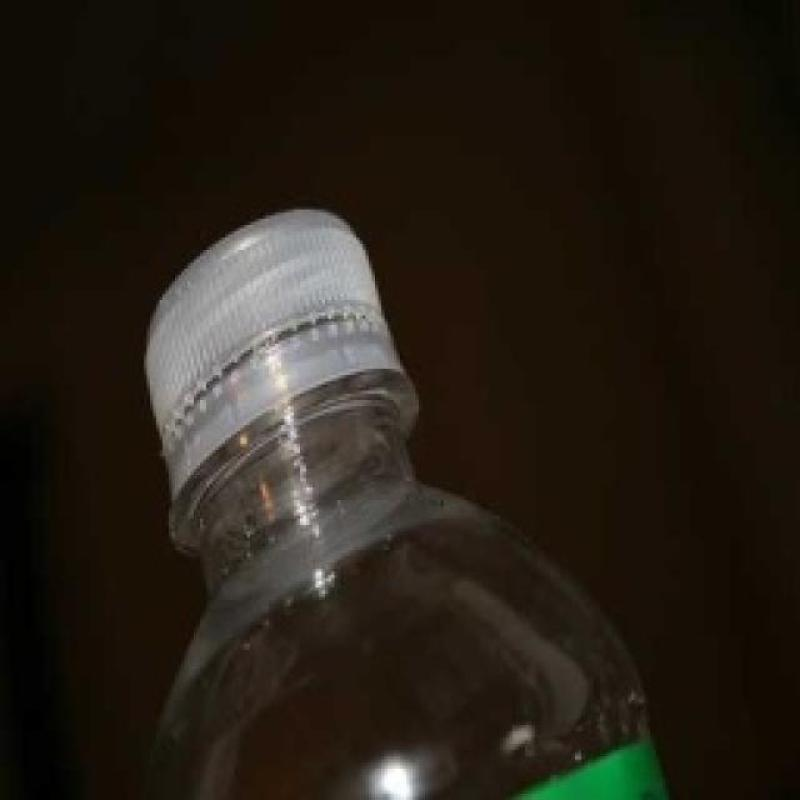botella: (132, 206, 670, 800)
